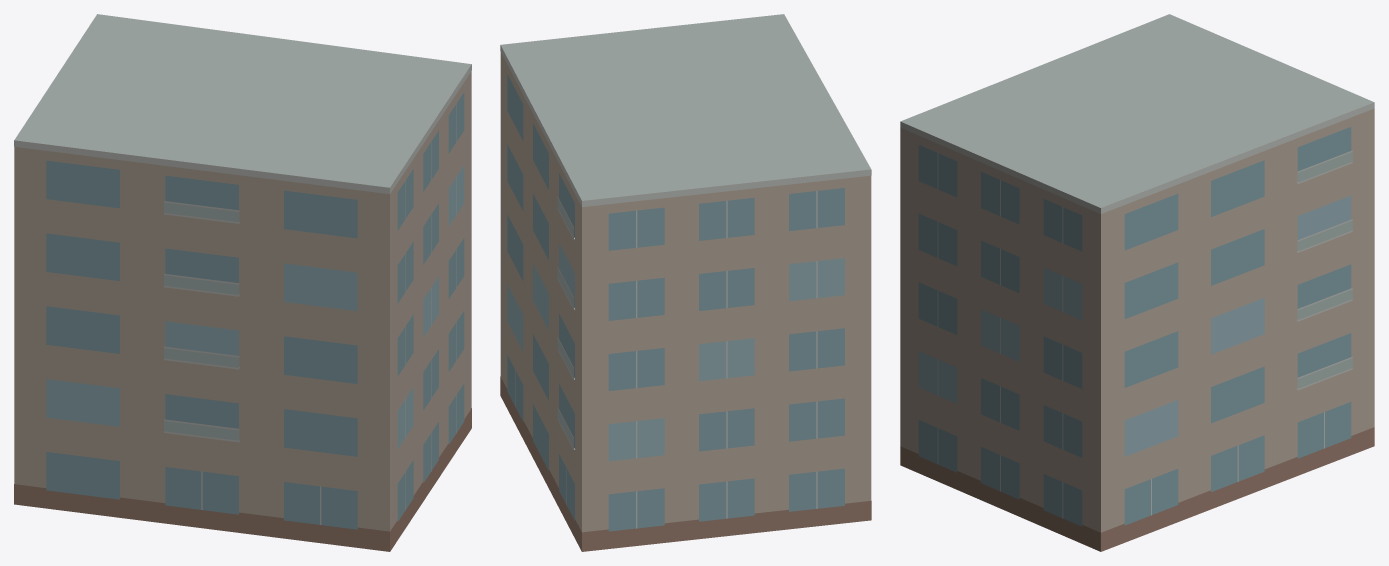
Rendered from survey-upis-32881697.glb.
3 renders of one model, left to right at view 1: azimuth 30°, elevation 25°; view 2: azimuth 150°, elevation 25°; view 3: azimuth 270°, elevation 25°, orthographic. The views are drawn at different scales.
Visible parts, largest first — view 1: survey-upis-32881697.tmp; view 2: survey-upis-32881697.tmp; view 3: survey-upis-32881697.tmp.
Boxes of the visible parts, box(x1,y1,x2,y2) form: survey-upis-32881697.tmp: box(14, 14, 471, 551); survey-upis-32881697.tmp: box(500, 14, 871, 551); survey-upis-32881697.tmp: box(900, 14, 1374, 551).
Bounding box in the file's own units: 16.84 × 13.9 × 17.39.
